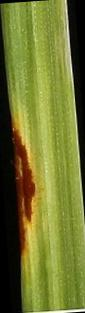Wheat: (19, 121, 40, 233)
